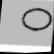no answer: (19, 3, 54, 35)
